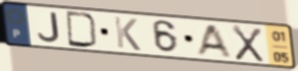6: (151, 19, 181, 55)
A: (193, 23, 234, 58)
D: (64, 10, 101, 50)
J: (35, 11, 62, 44)
K: (112, 15, 143, 53)
X: (230, 23, 266, 64)
